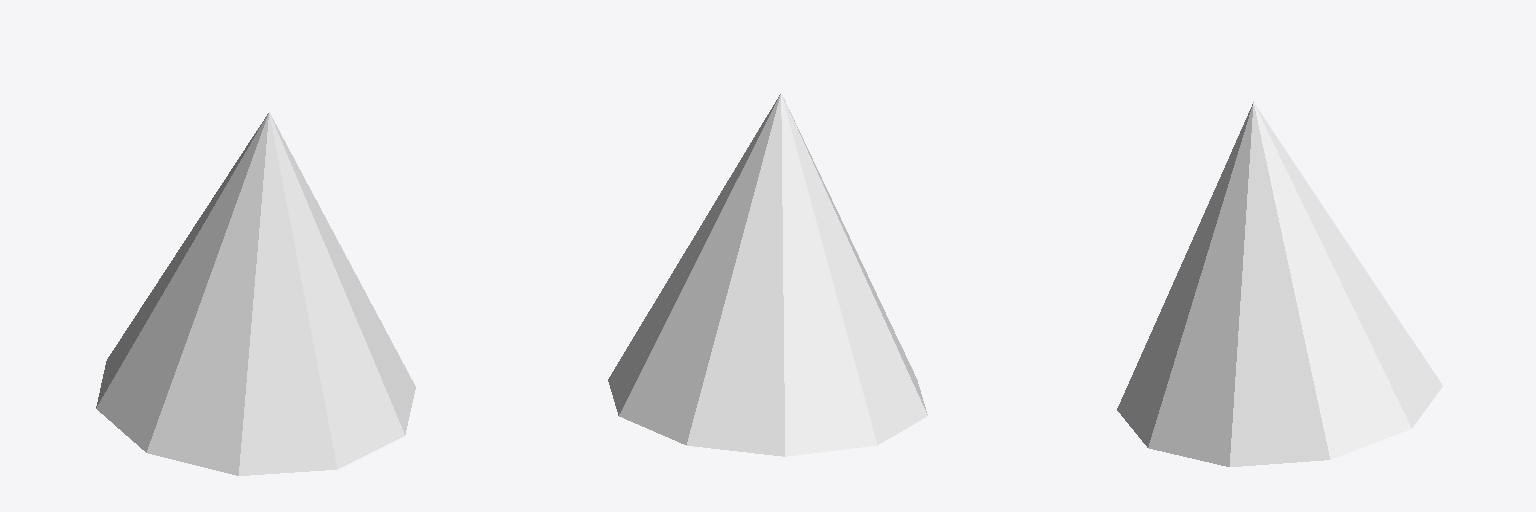
File: primitive.obj
3 views of the same model, side by side, from view 1: azimuth 30°, elevation 25°; view 2: azimuth 150°, elevation 25°; view 3: azimuth 270°, elevation 25° (orthographic).
Visible parts, largest first — view 1: default; view 2: default; view 3: default.
Boxes of the visible parts, <box> form: default: <box>96,112,415,475</box>; default: <box>608,93,927,456</box>; default: <box>1117,102,1442,466</box>.
Bounding box in the file's own units: 0.951 × 1.04 × 0.9967.